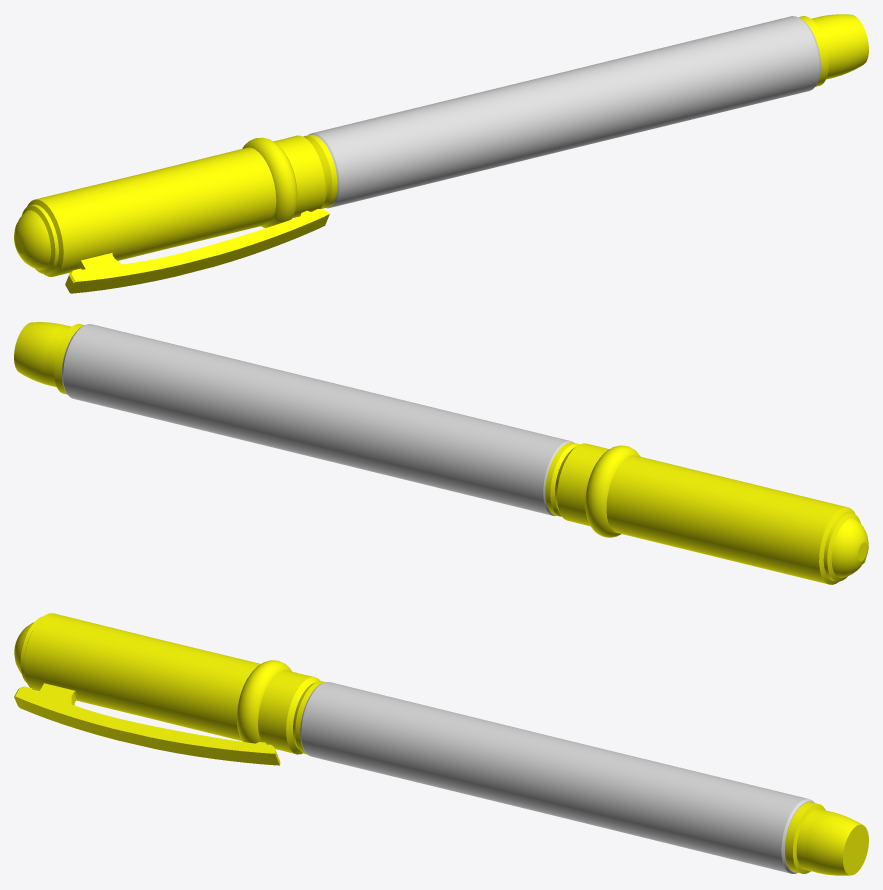
The model's file is 209_蛍光ペン.glb.
The picture shows the model from 3 angles, top to bottom: view 1: azimuth 30°, elevation 25°; view 2: azimuth 150°, elevation 25°; view 3: azimuth 330°, elevation 25°; orthographic projection.
Parts seen in each view (by area): view 1: body, キャップ; view 2: body, キャップ; view 3: body, キャップ.
Boxes of the visible parts, x1,y1,x2,y2 form: body: (303, 14, 868, 208); キャップ: (14, 135, 329, 293); body: (14, 322, 579, 516); キャップ: (555, 443, 868, 584); body: (293, 681, 868, 875); キャップ: (14, 613, 320, 765).
Bounding box in the file's own units: 0.148 × 0.0144 × 0.0178.
